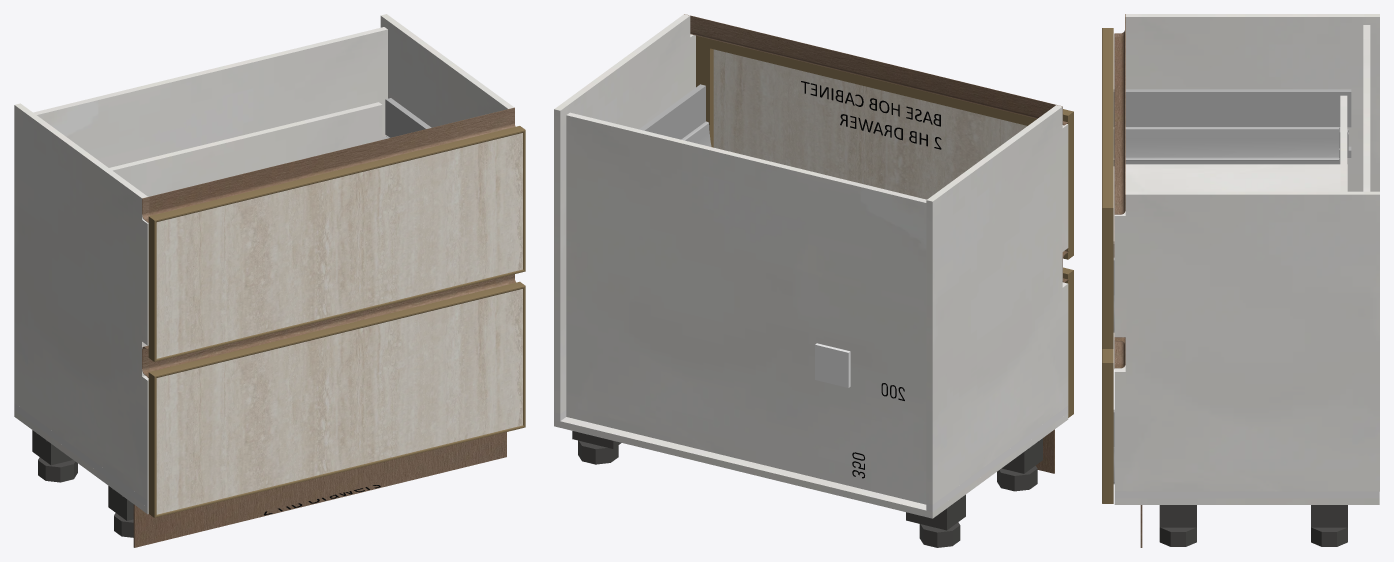
File: BC-HO-CJ-ST-XXX-2HB-XXX-900-720-560-15.glb
3 views of the same model, side by side, from view 1: azimuth 30°, elevation 25°; view 2: azimuth 150°, elevation 25°; view 3: azimuth 270°, elevation 25° (orthographic). The views are drawn at different scales.
Parts seen in each view (by area): view 1: Object_node_1, Object_node, TP_node_4, TP, TP_node_2, Object_node_79, ExtrSplGeo, TP_node_5, ExtrSplGeo_node, Extrusion, Extrusion_node_2, Extrusion_node_1 (+8 smaller); view 2: TP, TP_node_4, Object_node_1, TP_node_5, ExtrSplGeo, TP_node_3, Extrusion_node_2, Object_node_55, 2D text, casing, Extrusion_node_3, Object_node_59 (+7 smaller); view 3: TP_node_5, TP_node_4, Object_node_57, Shell_1_0_node, TP_node_1, ExtrSplGeo, Extrusion_node_2, Object_node_61, TP_node_3, Extrusion_node, Extrusion_node_3, TP (+6 smaller).
Boxes of the visible parts, x1=… form: Object_node_1: x1=156, y1=133, x2=522, y2=358; Object_node: x1=156, y1=289, x2=522, y2=514; TP_node_4: x1=14, y1=103, x2=148, y2=500; TP: x1=33, y1=27, x2=387, y2=167; TP_node_2: x1=109, y1=102, x2=382, y2=196; Object_node_79: x1=133, y1=432, x2=506, y2=547; ExtrSplGeo: x1=142, y1=107, x2=515, y2=222; TP_node_5: x1=380, y1=14, x2=514, y2=127; ExtrSplGeo_node: x1=142, y1=274, x2=515, y2=377; Extrusion: x1=149, y1=281, x2=525, y2=377; Extrusion_node_2: x1=149, y1=126, x2=525, y2=221; Extrusion_node_1: x1=148, y1=372, x2=156, y2=517; TP: x1=566, y1=112, x2=926, y2=504; TP_node_4: x1=926, y1=105, x2=1068, y2=504; Object_node_1: x1=713, y1=49, x2=1027, y2=199; TP_node_5: x1=554, y1=14, x2=695, y2=413; ExtrSplGeo: x1=684, y1=14, x2=1068, y2=125; TP_node_3: x1=554, y1=413, x2=1068, y2=518; Extrusion_node_2: x1=701, y1=37, x2=1073, y2=125; Object_node_55: x1=639, y1=84, x2=705, y2=139; 2D text: x1=801, y1=81, x2=941, y2=149; casing: x1=815, y1=343, x2=850, y2=387; Extrusion_node_3: x1=696, y1=35, x2=713, y2=147; Object_node_59: x1=926, y1=406, x2=1068, y2=511; TP_node_5: x1=1114, y1=191, x2=1379, y2=491; TP_node_4: x1=1125, y1=14, x2=1379, y2=191; Object_node_57: x1=1113, y1=89, x2=1351, y2=127; Shell_1_0_node: x1=1113, y1=127, x2=1340, y2=165; TP_node_1: x1=1125, y1=164, x2=1347, y2=212; ExtrSplGeo: x1=1114, y1=14, x2=1125, y2=214; Extrusion_node_2: x1=1102, y1=28, x2=1113, y2=207; Object_node_61: x1=1114, y1=491, x2=1379, y2=498; TP_node_3: x1=1114, y1=368, x2=1379, y2=504; Extrusion_node: x1=1102, y1=363, x2=1113, y2=503; Extrusion_node_3: x1=1102, y1=208, x2=1113, y2=348; TP: x1=1363, y1=25, x2=1370, y2=191.
Size of what is drawn, in the model's own units: 0.9 by 0.82 by 0.5842.
Materials: 11 (3 with a texture image).
